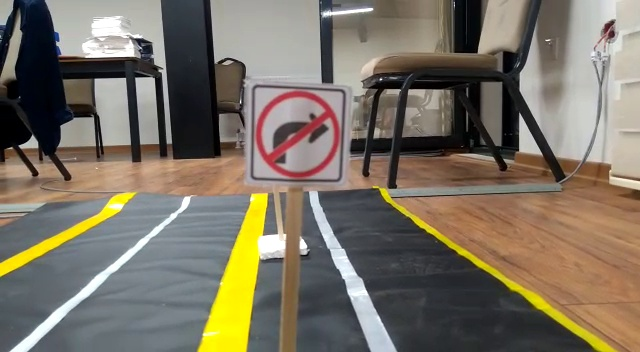saga_donulmez: (249, 78, 344, 180)
